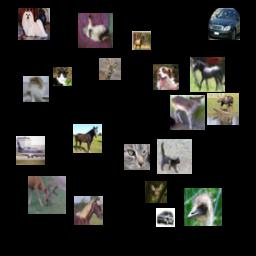airplane: (16, 136, 45, 165)
automobile: (208, 8, 240, 40), (156, 208, 175, 227)
bird: (184, 188, 222, 226)
cat: (157, 139, 192, 174), (78, 13, 113, 48), (124, 144, 150, 170), (53, 67, 72, 86)
deer: (28, 176, 66, 214), (170, 95, 205, 130), (207, 93, 239, 125), (145, 181, 167, 203), (99, 58, 121, 80), (132, 31, 151, 50)
dog: (18, 8, 50, 40), (23, 76, 49, 102), (153, 64, 179, 90)
